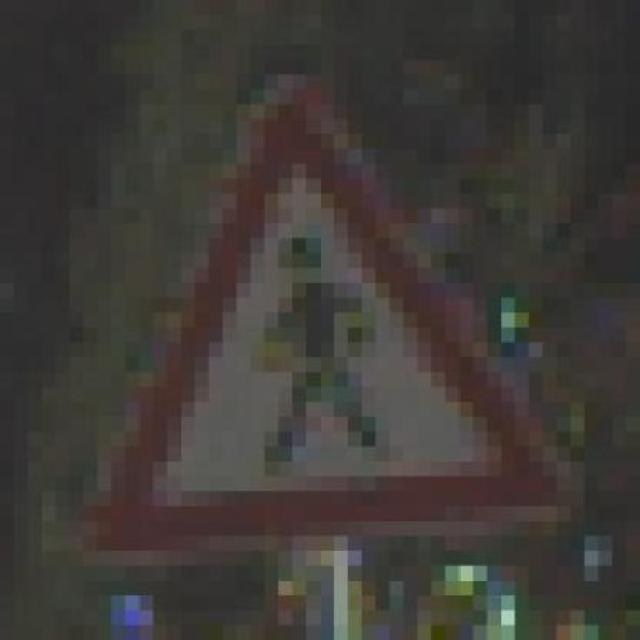Pedestrian Crossing: (83, 59, 585, 581)
